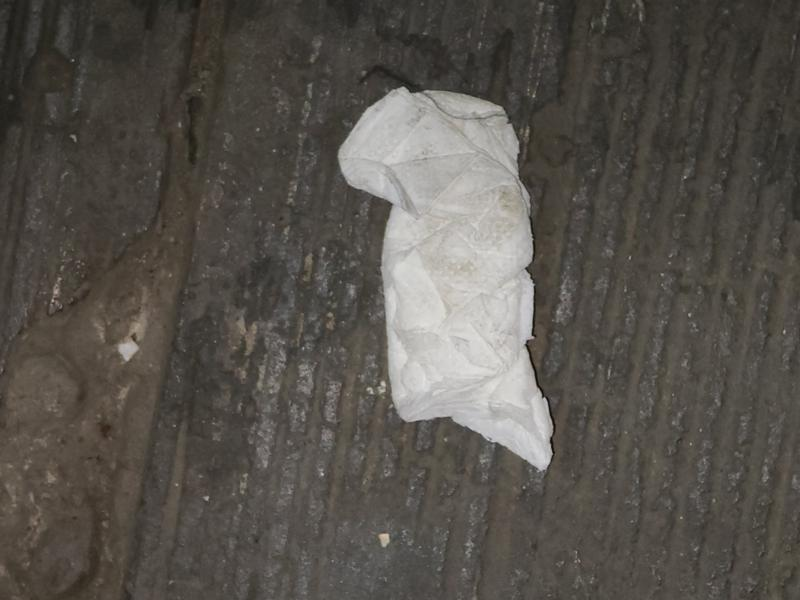papel: (335, 87, 556, 472)
